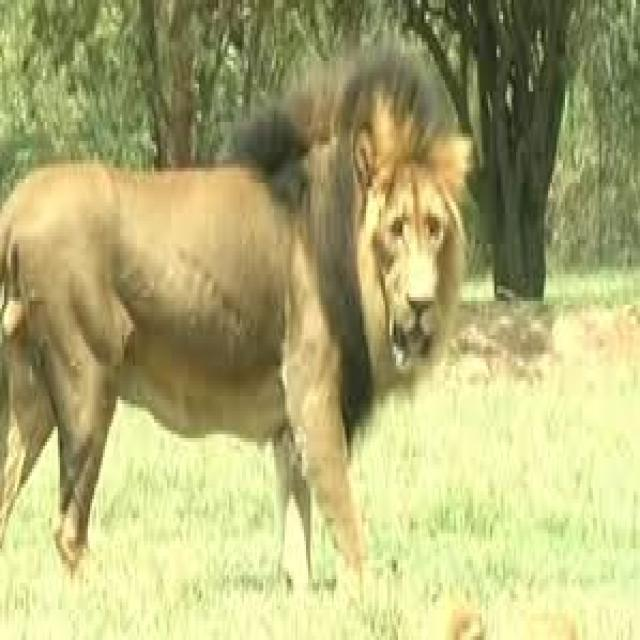Lion: (0, 46, 471, 568)
